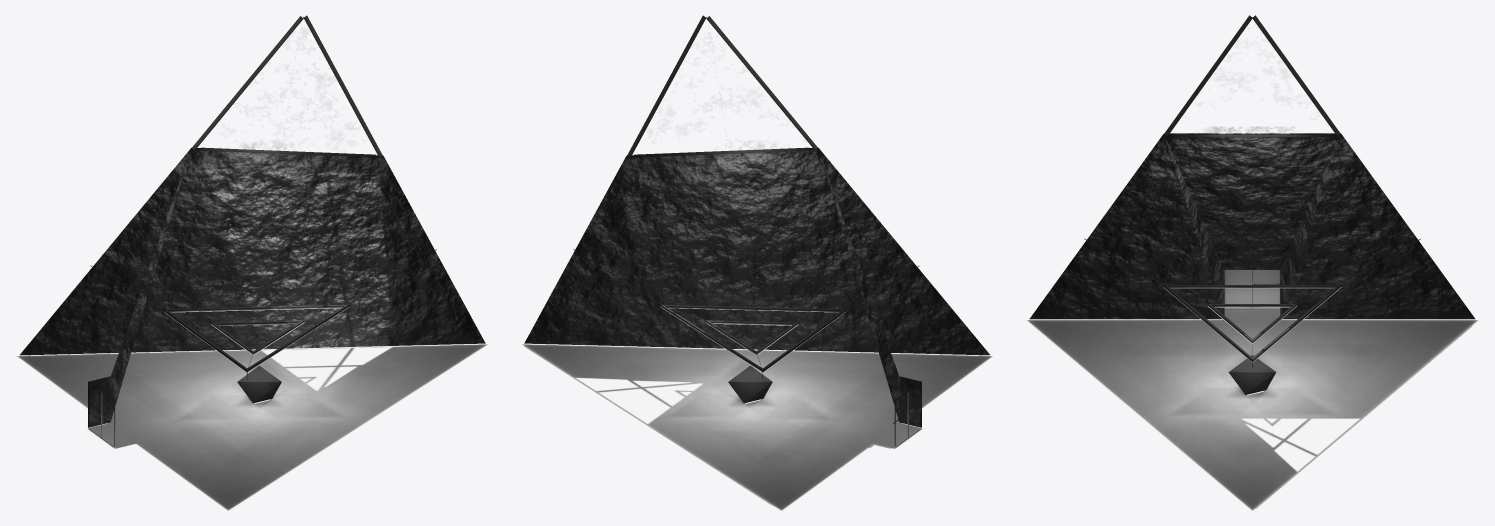
3 renders of one model, left to right at view 1: azimuth 30°, elevation 25°; view 2: azimuth 150°, elevation 25°; view 3: azimuth 270°, elevation 25°, orthographic. The views are drawn at different scales.
Visible parts, largest first — view 1: Baked; view 2: Baked; view 3: Baked.
Part boxes in pixels (<box>): Baked: <box>15,15,489,511</box>; Baked: <box>520,15,994,511</box>; Baked: <box>1024,15,1480,511</box>.
Size of the model in its own units: 17.36 by 15.8 by 16.36.
